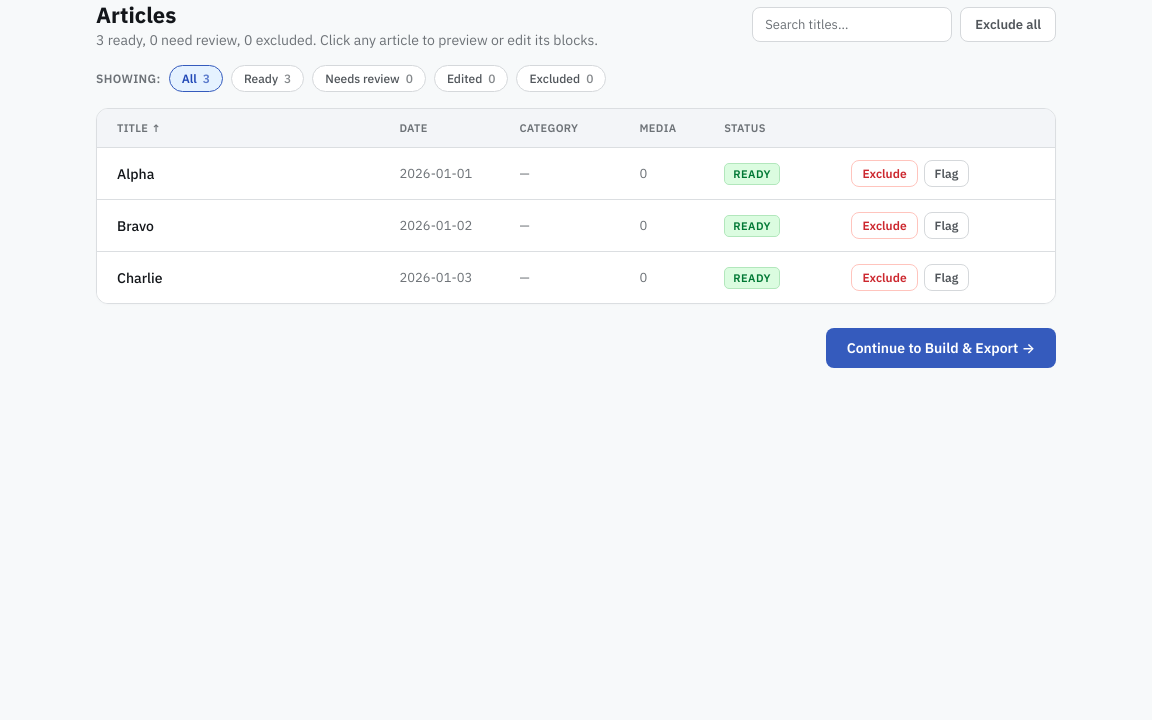
Test case: ArticlesTab prev/next navigation › steps through the title-sorted list and disables at the ends
This screenshot has width=1152, height=720.
// Default sort is by title ascending: Alpha, Bravo, Charlie.
Click the text "Alpha".
click(136, 174)  # box 117,164 -> 154,182
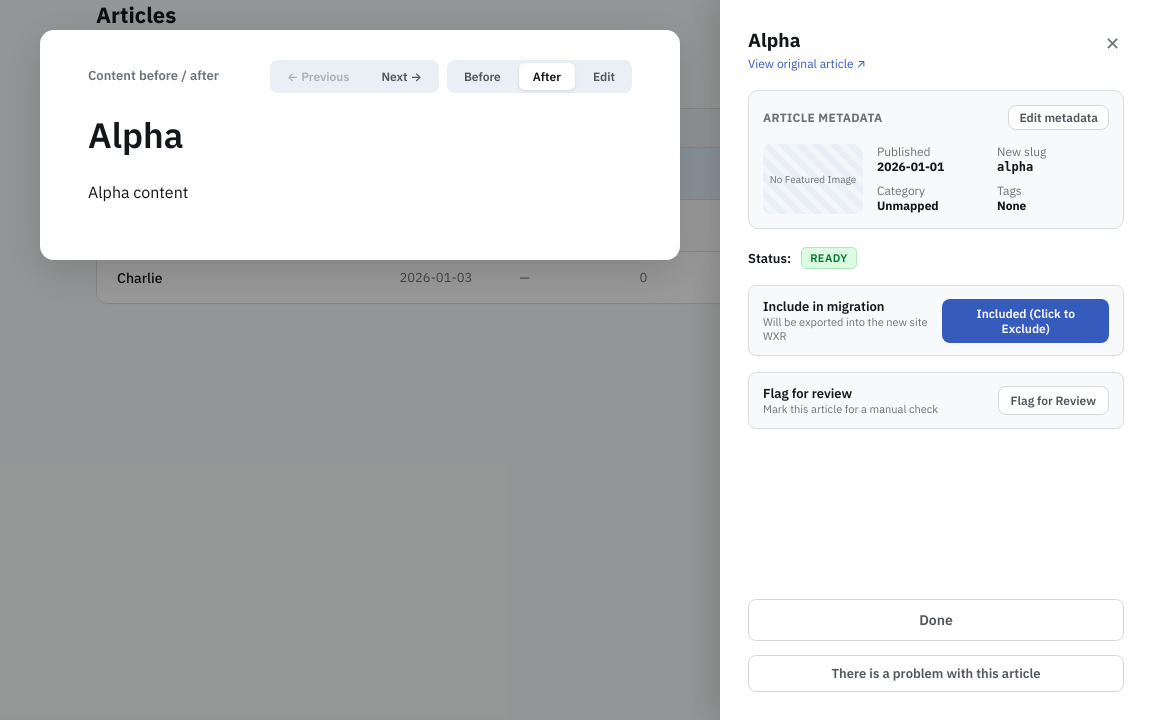
Result: the button "← Previous" is disabled at 273,63 -> 363,90
Result: the button "Next →" is enabled
Click the button "Next →".
click(402, 76)  # box 367,63 -> 436,90
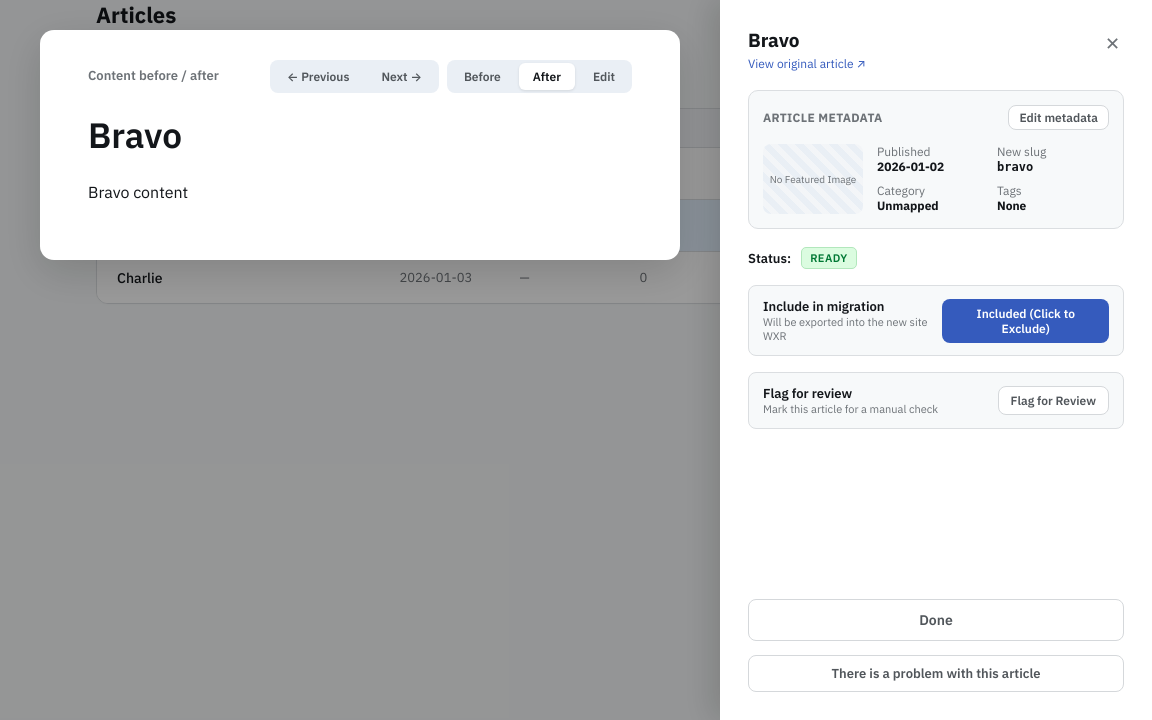
Click the button "Next →".
click(402, 76)  # box 367,63 -> 436,90
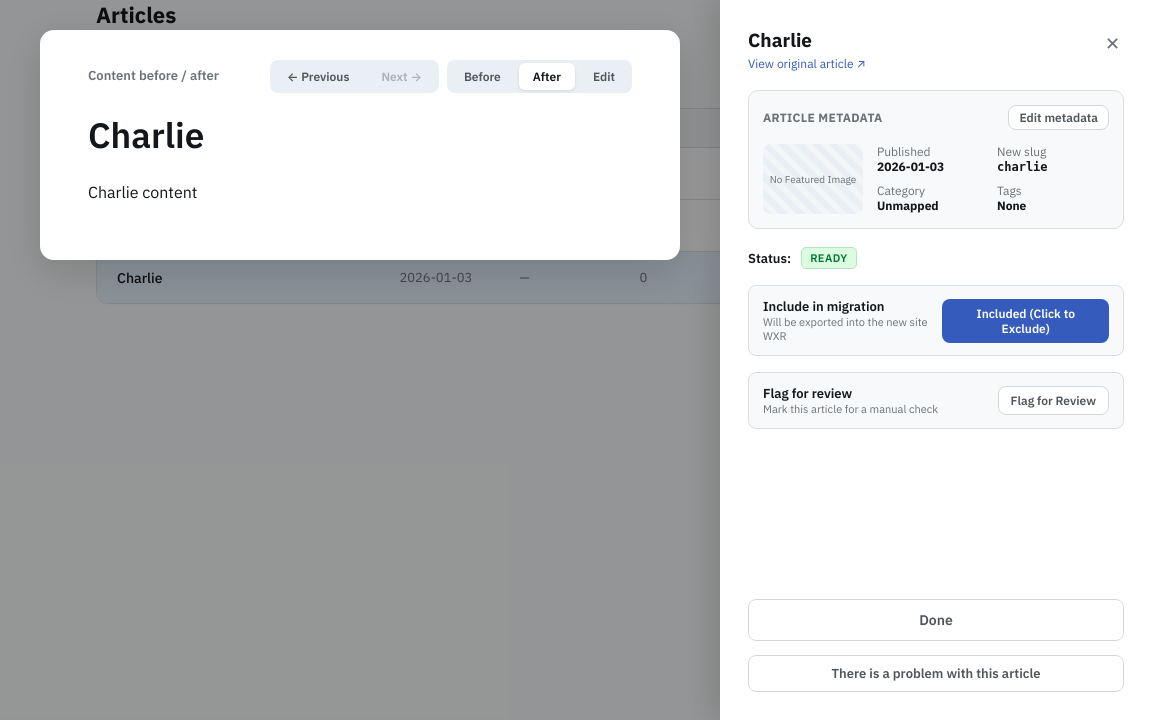
Expected: the text "Charlie" is shown, 117,268 -> 162,286
Result: the button "← Previous" is enabled at 273,63 -> 363,90
Result: the button "Next →" is disabled at 367,63 -> 436,90
